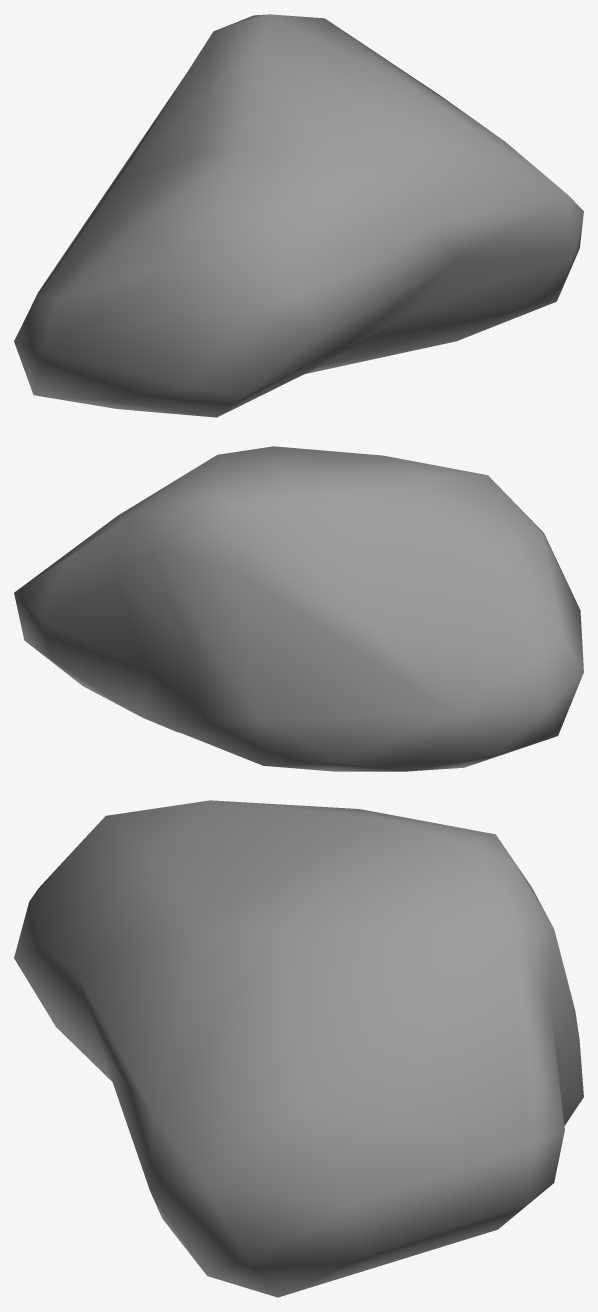
The model's file is SoftRock_06.fbx.
3 renders of one model, top to bottom at view 1: azimuth 30°, elevation 25°; view 2: azimuth 150°, elevation 25°; view 3: azimuth 270°, elevation 25°, orthographic. The views are drawn at different scales.
Parts seen in each view (by area): view 1: SoftRock_06; view 2: SoftRock_06; view 3: SoftRock_06.
Boxes of the visible parts, bbox=[...] form: SoftRock_06: bbox=[14, 14, 583, 417]; SoftRock_06: bbox=[14, 446, 583, 771]; SoftRock_06: bbox=[14, 800, 583, 1297].
Size of the model in its own units: 97.06 by 48.7 by 70.89.
